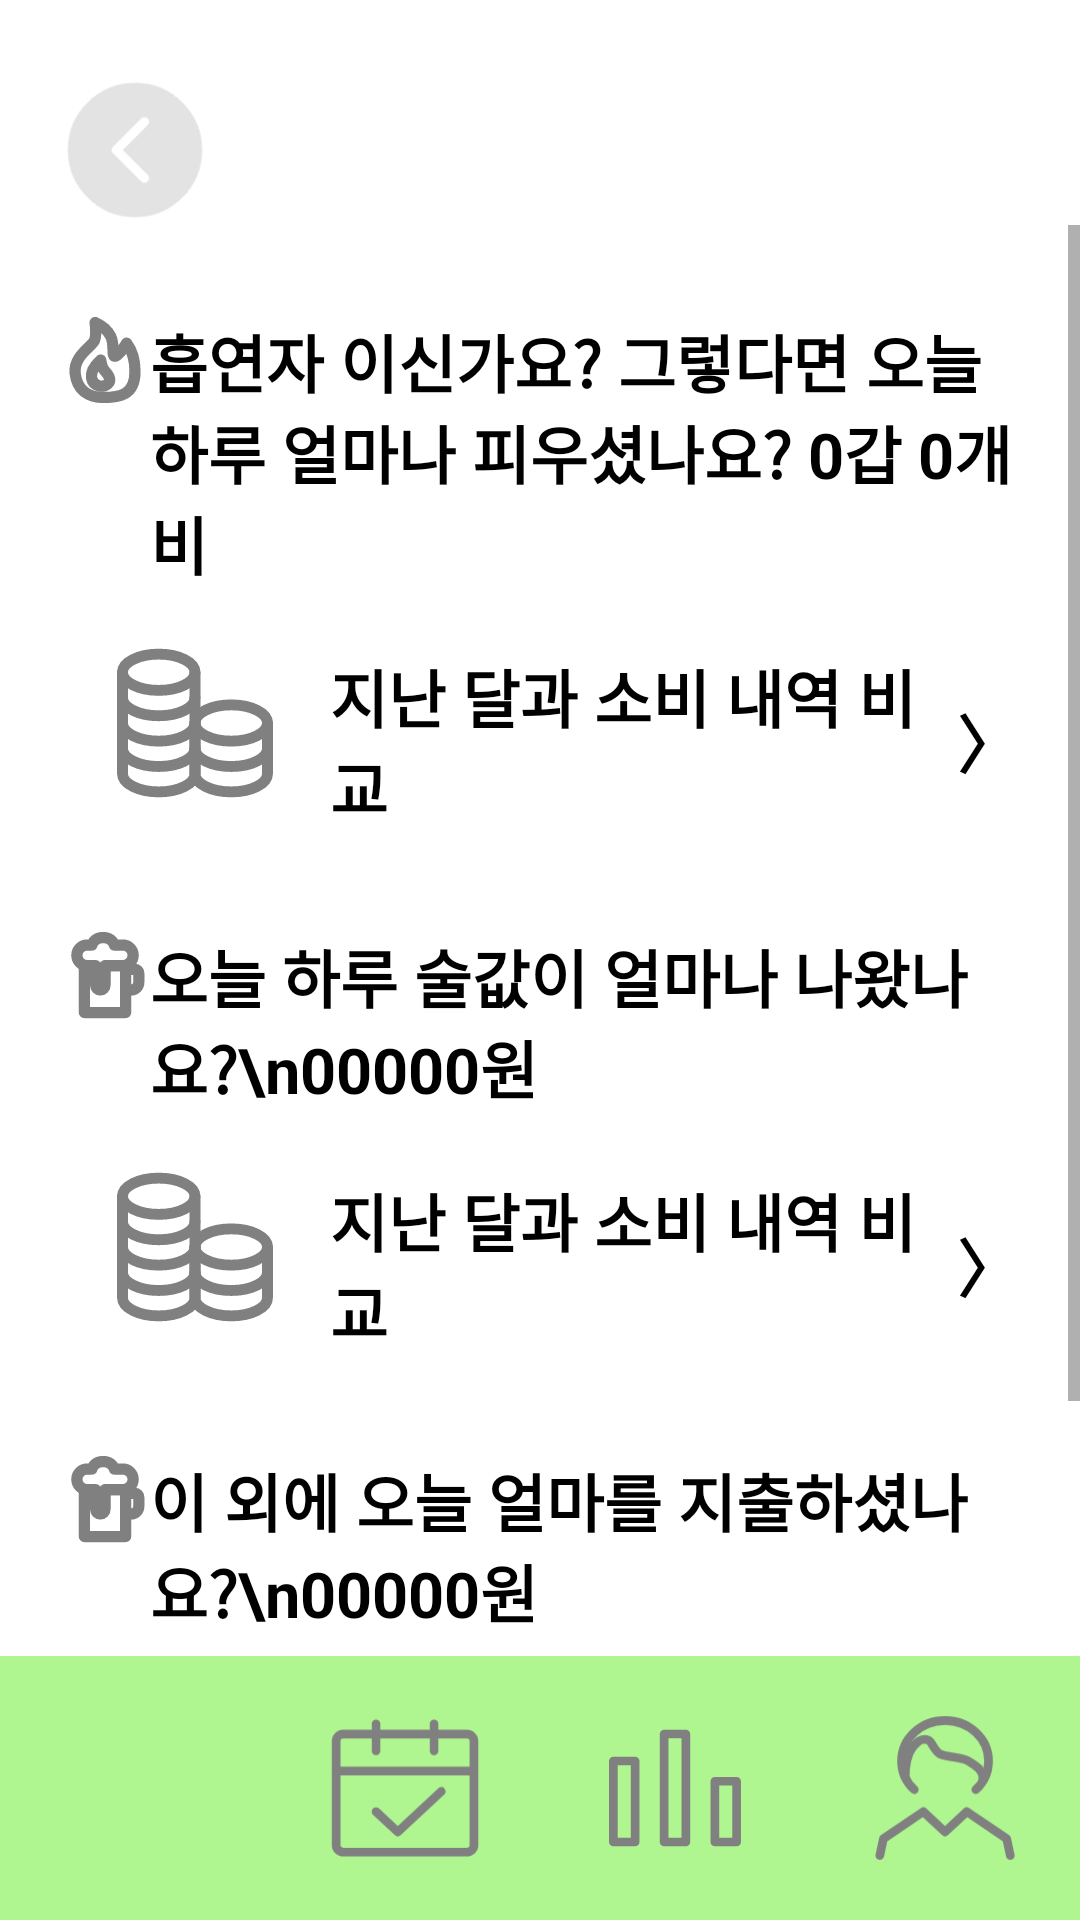

Named icons in this screenshot (1080×1920) and their centers, (x=x, y=y):
beer: (x=108, y=975), (x=108, y=1499)
fire: (x=105, y=360)
left circle: (x=135, y=150)
